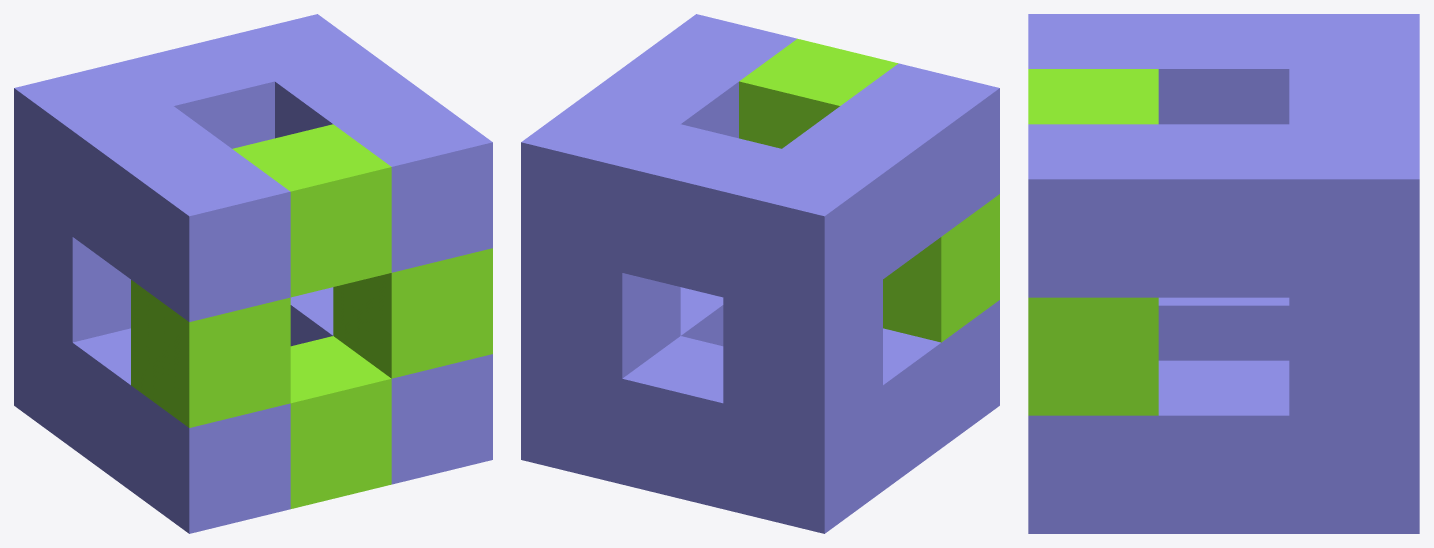
The picture shows the model from 3 angles, left to right: view 1: azimuth 30°, elevation 25°; view 2: azimuth 150°, elevation 25°; view 3: azimuth 270°, elevation 25°; orthographic projection. The views are drawn at different scales.
Visible parts, largest first — view 1: Node; view 2: Node; view 3: Node.
Boxes of the visible parts, x1,y1,x2,y2 form: Node: (14,14,492,533); Node: (521,14,999,533); Node: (1028,14,1419,533).
Size of the model in its own units: 0.3 by 0.3 by 0.3.
Materials: 1 (1 with a texture image).
